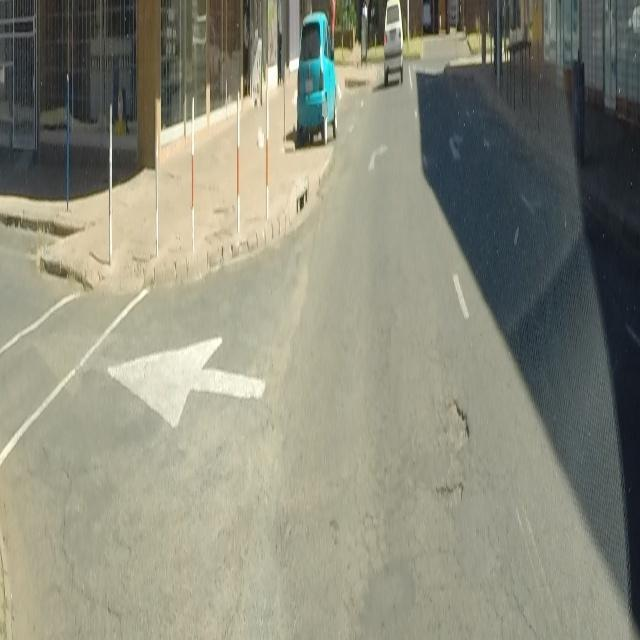pothole: (442, 390, 471, 454), (434, 478, 464, 507)
